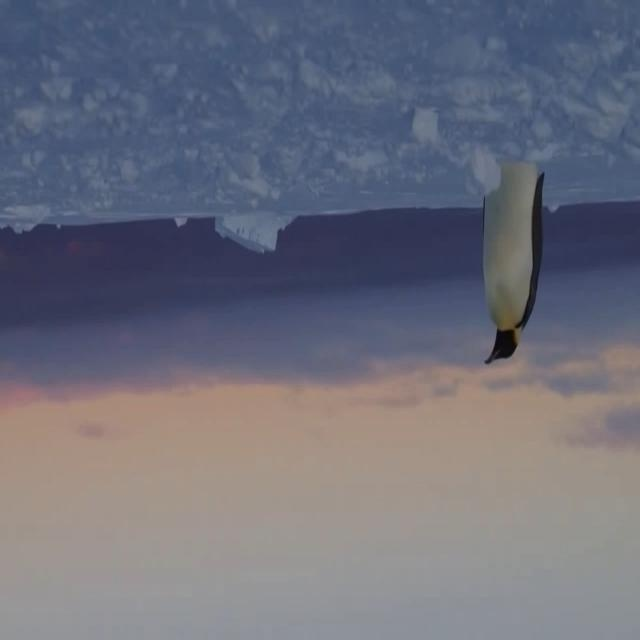penguin: (479, 158, 545, 365)
